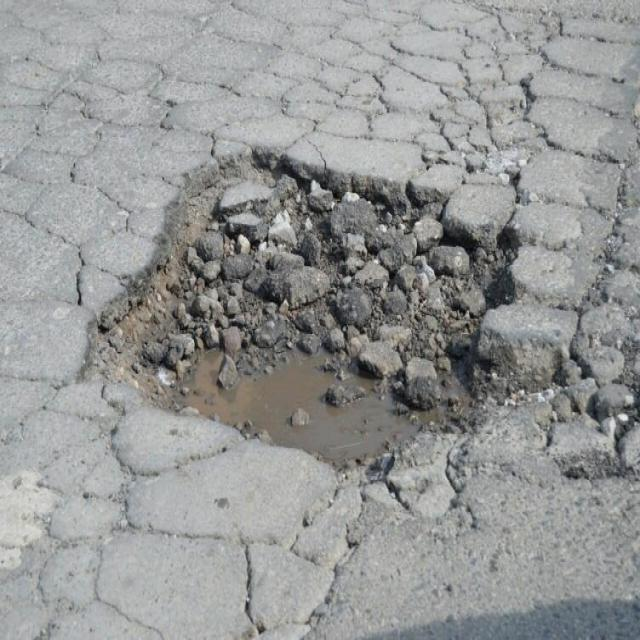Pothole: (69, 102, 590, 564)
